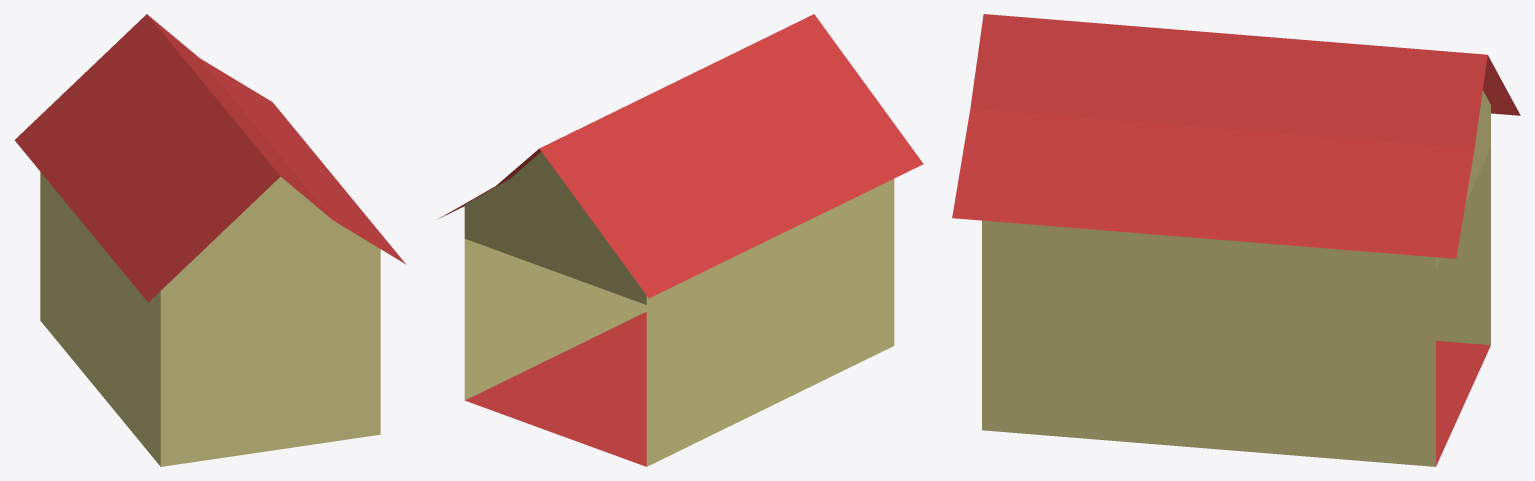
3 views of the same model, side by side, from view 1: azimuth 30°, elevation 25°; view 2: azimuth 150°, elevation 25°; view 3: azimuth 270°, elevation 25° (orthographic). The views are drawn at different scales.
Bounding box in the file's own units: 17.02 × 22.26 × 15.34.
